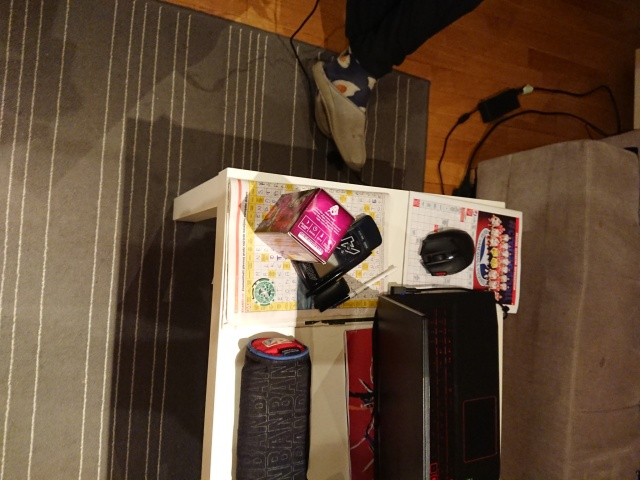Franck Black Currant Tea 60g: (252, 185, 357, 267)
